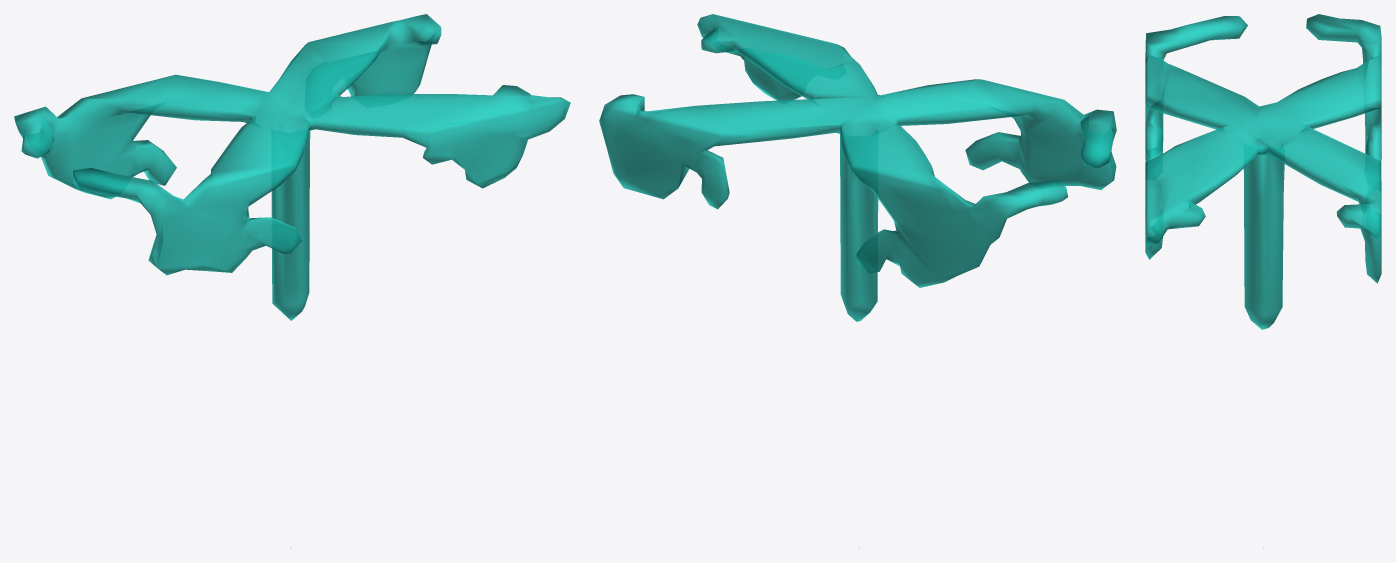
3 views of the same model, side by side, from view 1: azimuth 30°, elevation 25°; view 2: azimuth 150°, elevation 25°; view 3: azimuth 270°, elevation 25° (orthographic). The views are drawn at different scales.
Visible parts, largest first — view 1: Liquid_Domain; view 2: Liquid_Domain; view 3: Liquid_Domain.
Boxes of the visible parts, left/top/right/bottom form: Liquid_Domain: left=14, top=14, right=570, bottom=320; Liquid_Domain: left=599, top=14, right=1116, bottom=321; Liquid_Domain: left=1145, top=14, right=1381, bottom=329.
Bounding box in the file's own units: 737 × 683 × 344.
